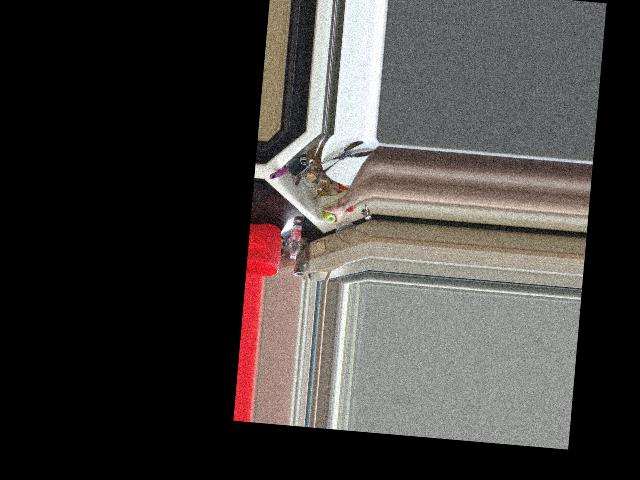apple: (321, 206, 337, 225)
